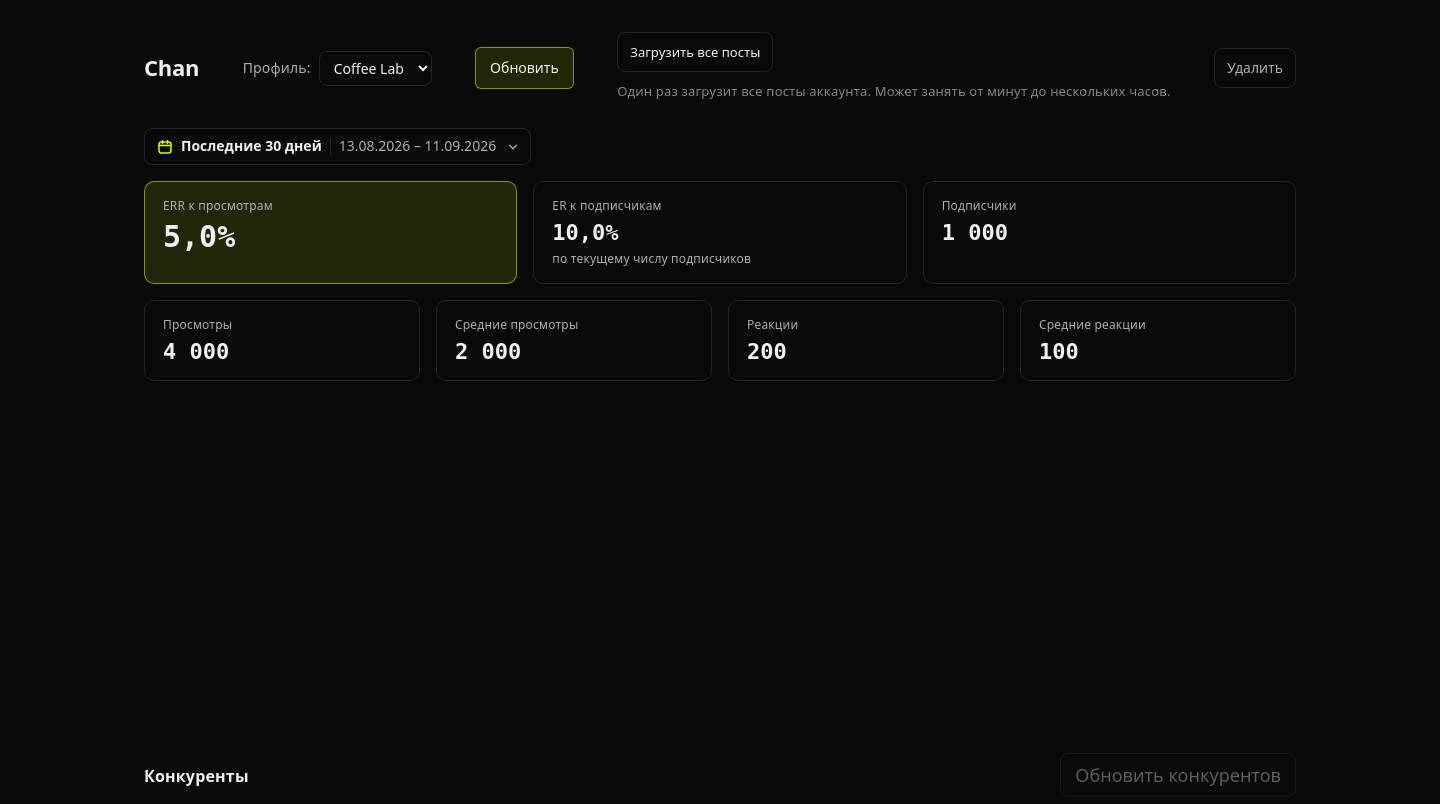
Test: delete account › shows the server message when the delete fails
Click the button with aria-label "Удалить аккаунт" at (1255, 68), box [1214,48,1296,88]
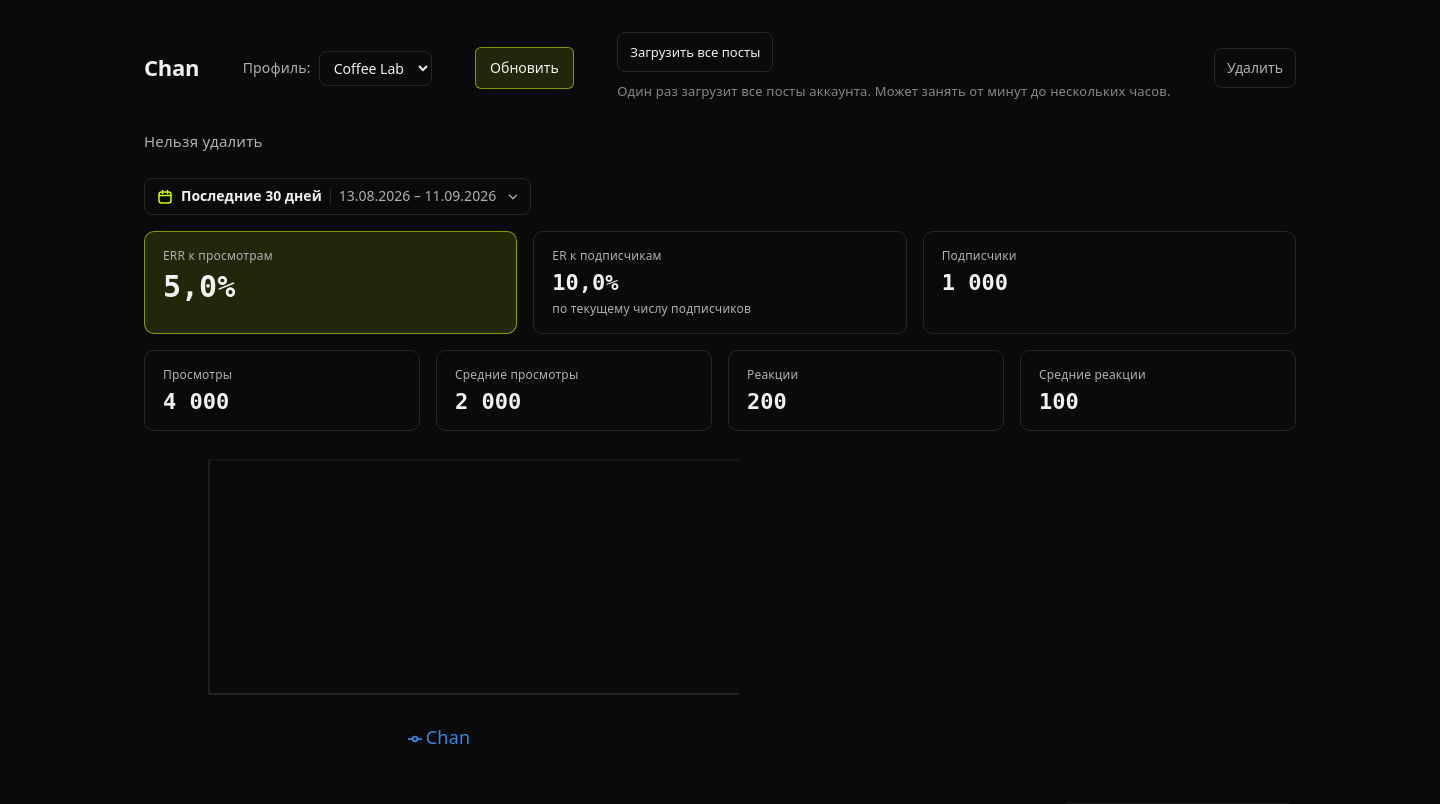
Expected: the message reads "Нельзя удалить", [144,131,263,151]
